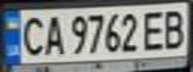2: (118, 9, 142, 53)
6: (103, 9, 124, 54)
7: (84, 11, 106, 54)
9: (66, 11, 87, 55)
A: (39, 12, 66, 57)
B: (160, 6, 190, 51)
C: (15, 12, 48, 57)
E: (139, 7, 172, 52)
